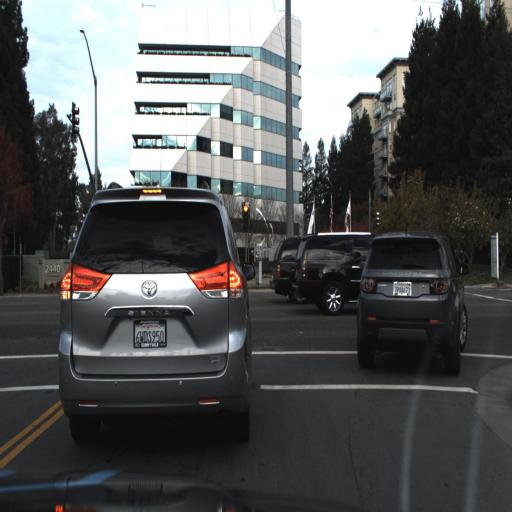car: (60, 177, 266, 447), (342, 222, 470, 399), (298, 226, 376, 324), (273, 236, 297, 300)
trafficLight: (238, 196, 252, 233)
trafficLight-Red: (237, 185, 256, 245)
